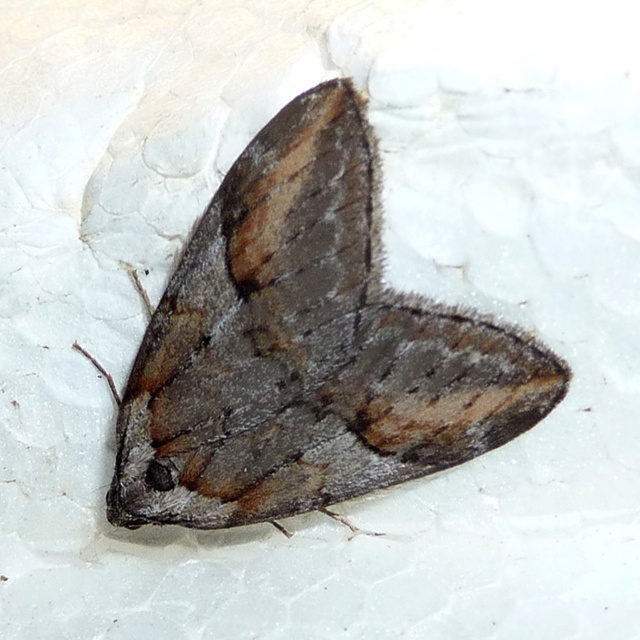Butterfly: (101, 81, 545, 527)
